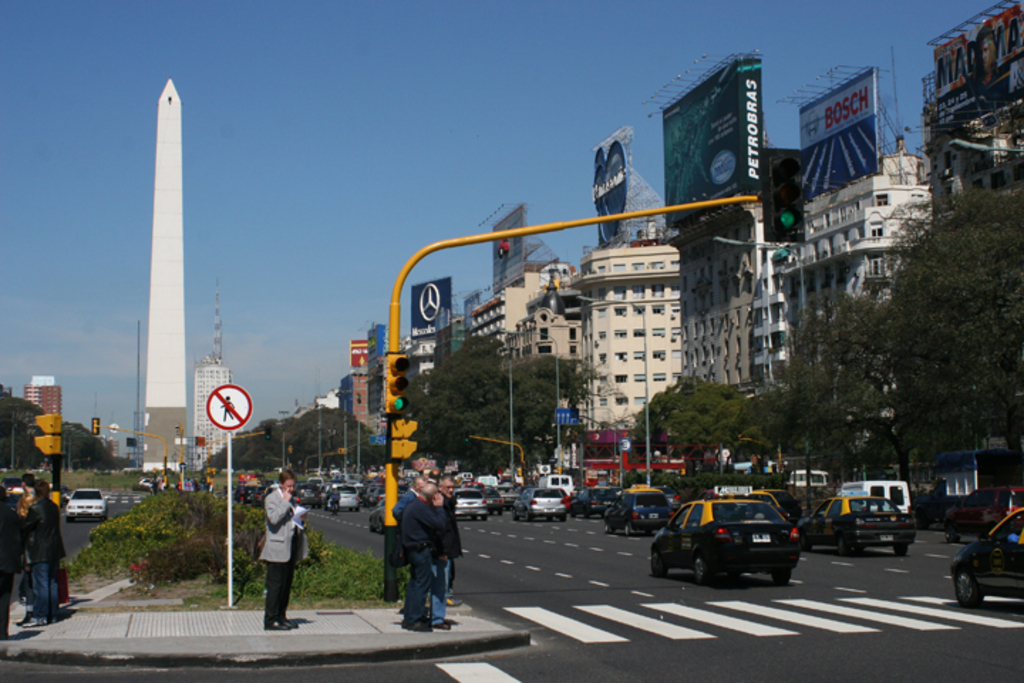mobil: (642, 499, 813, 588), (800, 488, 918, 564), (507, 483, 568, 529), (63, 483, 113, 522)
